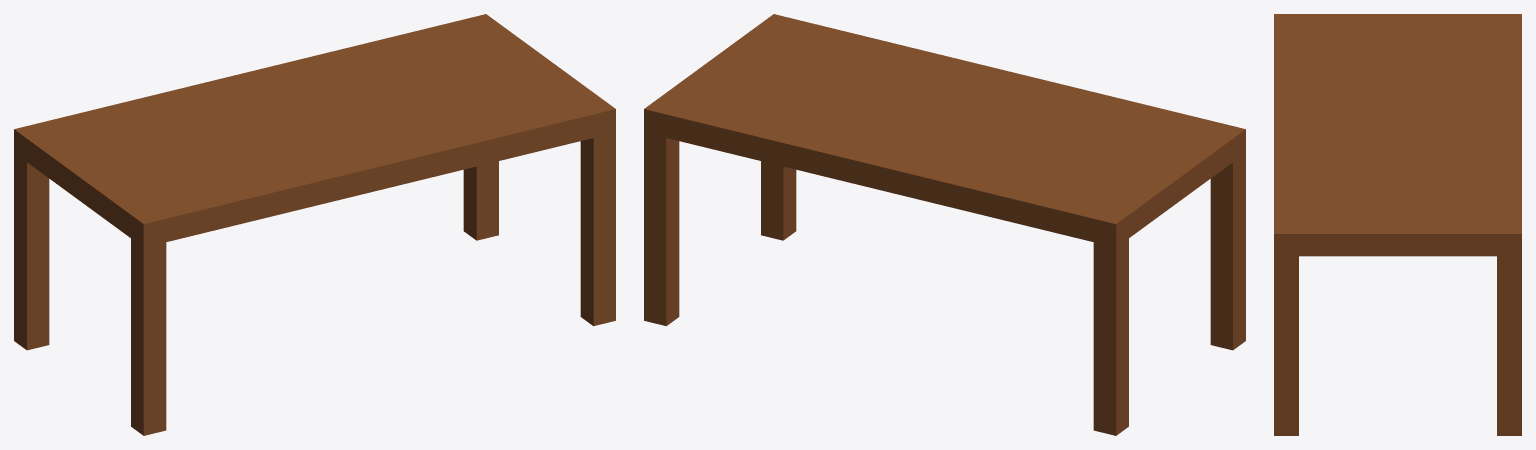
File: Part Studio 1 - table.obj
The picture shows the model from 3 angles, left to right: view 1: azimuth 30°, elevation 25°; view 2: azimuth 150°, elevation 25°; view 3: azimuth 270°, elevation 25°; orthographic projection. The views are drawn at different scales.
Visible parts, largest first — view 1: mesh0, mesh1, mesh14, mesh16, mesh5, mesh9, mesh10; view 2: mesh0, mesh13, mesh14, mesh3, mesh10, mesh6, mesh5; view 3: mesh0, mesh8.
Part boxes in pixels (x1=…): mesh0: x1=14, y1=14, x2=615, y2=223; mesh1: x1=143, y1=109, x2=615, y2=435; mesh14: x1=14, y1=129, x2=143, y2=435; mesh16: x1=27, y1=162, x2=49, y2=350; mesh5: x1=580, y1=138, x2=593, y2=325; mesh9: x1=476, y1=161, x2=498, y2=240; mesh10: x1=463, y1=166, x2=476, y2=240; mesh0: x1=644, y1=14, x2=1245, y2=223; mesh13: x1=644, y1=109, x2=1116, y2=435; mesh14: x1=1116, y1=129, x2=1245, y2=435; mesh3: x1=1210, y1=162, x2=1232, y2=350; mesh10: x1=666, y1=138, x2=679, y2=325; mesh6: x1=761, y1=161, x2=783, y2=240; mesh5: x1=783, y1=166, x2=796, y2=240; mesh0: x1=1274, y1=14, x2=1521, y2=233; mesh8: x1=1274, y1=234, x2=1521, y2=435.
Bounding box in the file's own units: 5.33 × 2.29 × 2.54.
